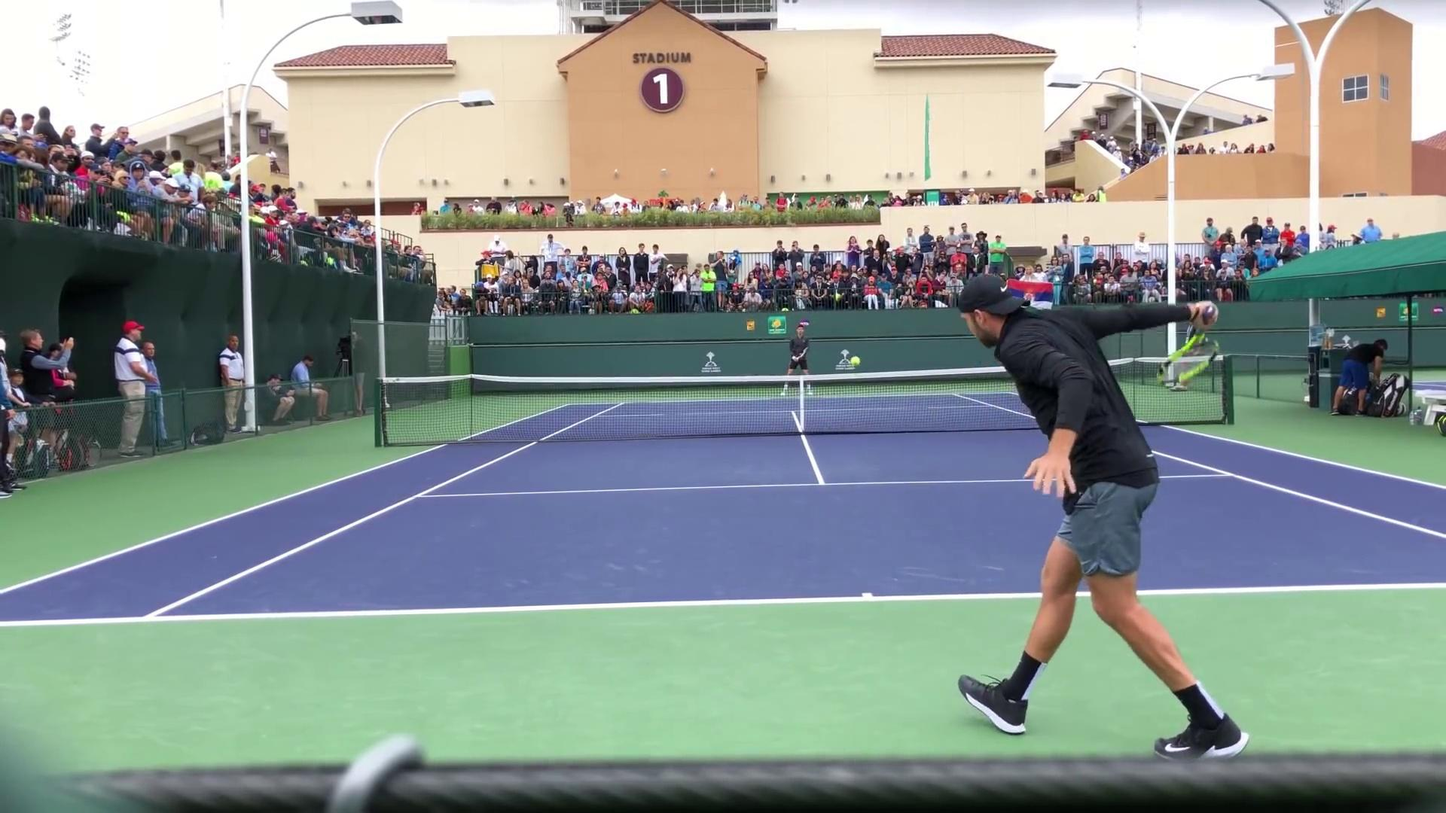ball: (850, 356, 861, 366)
